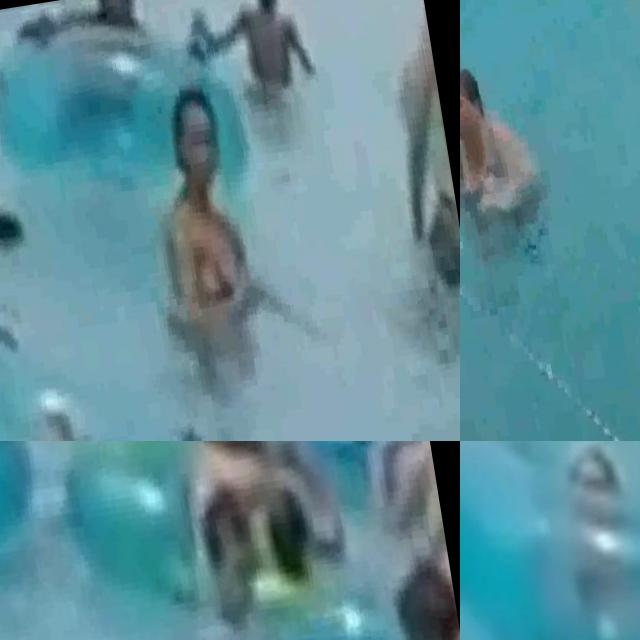drowning: (460, 14, 583, 330), (0, 166, 52, 304)
swimming: (115, 88, 282, 372), (185, 471, 345, 640), (173, 0, 323, 106), (366, 547, 460, 640), (183, 441, 300, 482)
